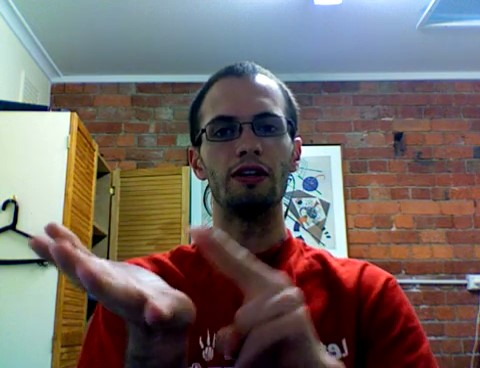V: (26, 219, 319, 365)
